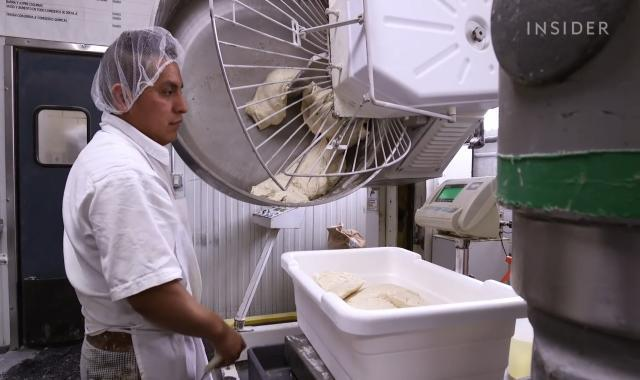Apron: (107, 128, 222, 380)
Hairnet: (88, 27, 186, 119)
No_Glove: (205, 301, 251, 375)
